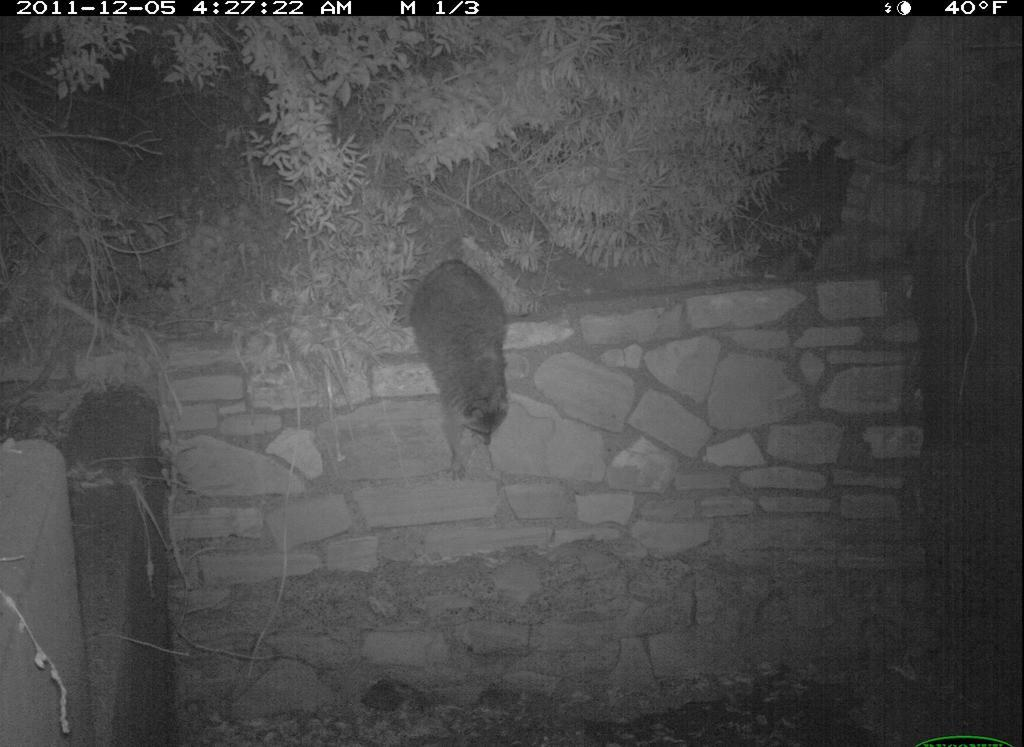raccoon: (393, 235, 527, 498)
